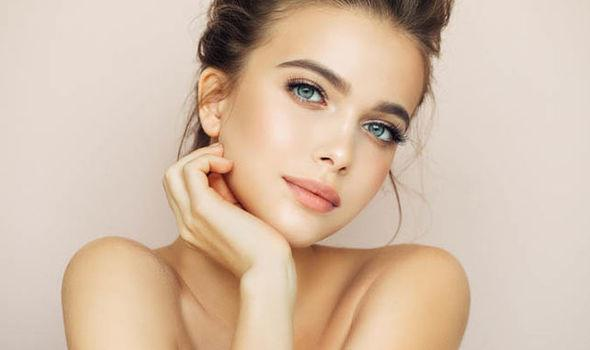face: (222, 6, 420, 248)
